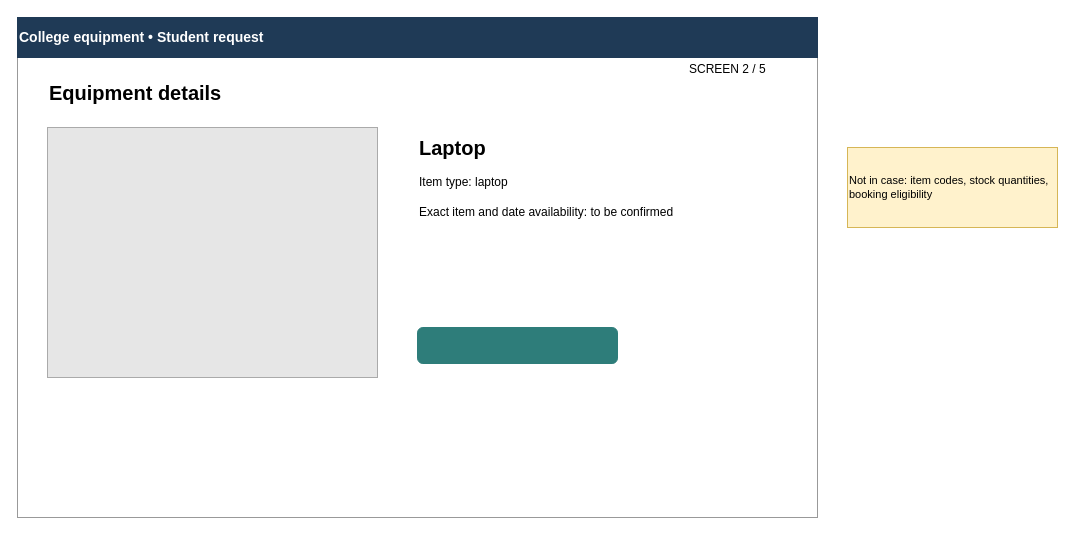
Some shapes in this 1075 by 535 pixel diagram are drawn without their labels. The centre of each missing label's shape, as x and y in pixels:
"[item image / icon]" goes at point (212, 252).
"Request this equipment" goes at point (517, 345).
